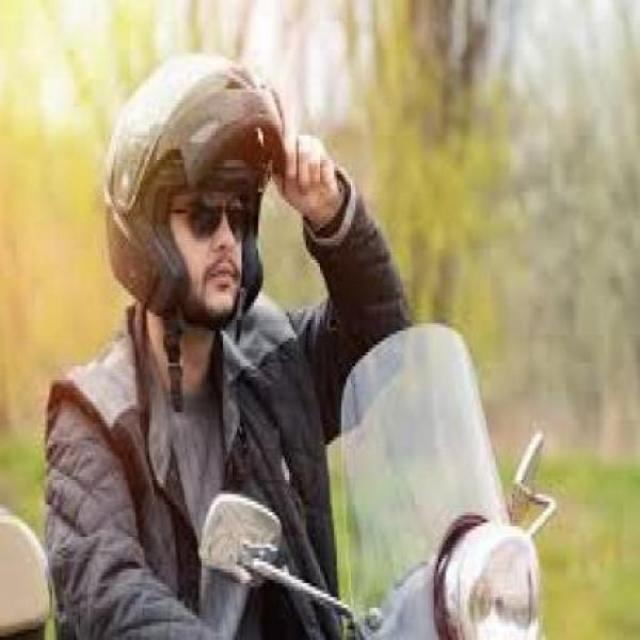Helmet: (107, 61, 309, 332)
